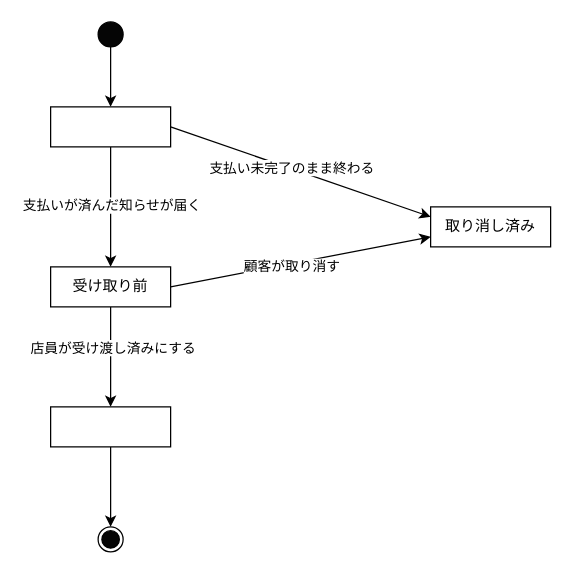
This 573x574 diagram has some shape labels left out. The shapes that lost their labels are listed below. From the top down, each one's centre as x and y in pixels, then its label:
(x=110, y=126): 支払い待ち
(x=110, y=426): 受け渡し済み
